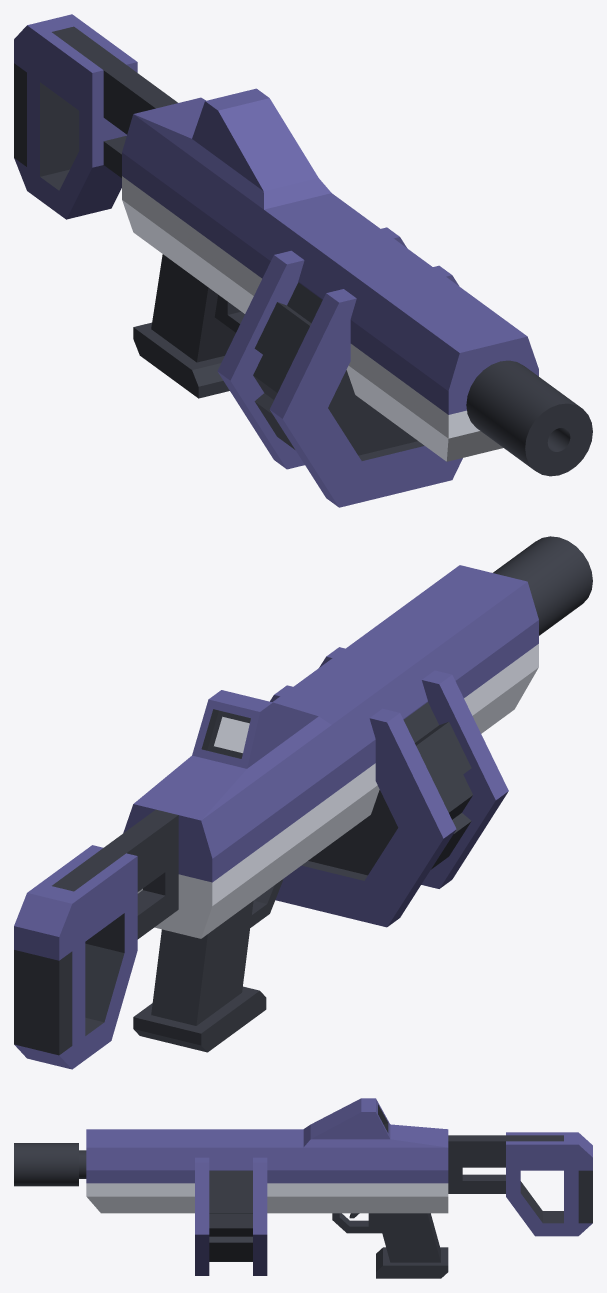
File: rifle1.obj
3 views of the same model, one above another, from view 1: azimuth 30°, elevation 25°; view 2: azimuth 150°, elevation 25°; view 3: azimuth 270°, elevation 25° (orthographic). The views are drawn at different scales.
Parts seen in each view (by area): view 1: mergedBlocks; view 2: mergedBlocks; view 3: mergedBlocks.
Part boxes in pixels (box(x1,y1,x2,y2)): mergedBlocks: box(14, 14, 592, 507); mergedBlocks: box(14, 536, 592, 1069); mergedBlocks: box(14, 1098, 592, 1278).
Bounding box in the file's own units: 1 × 1.25 × 4.
